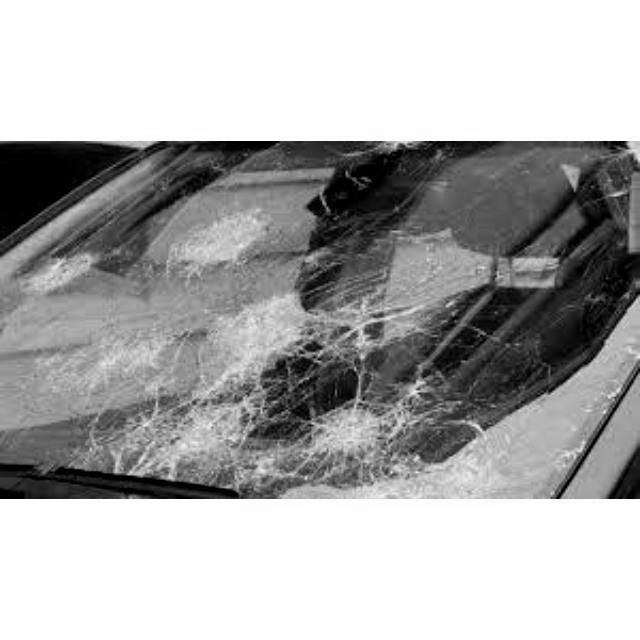Front-windscreen-damage: (73, 141, 572, 475)
